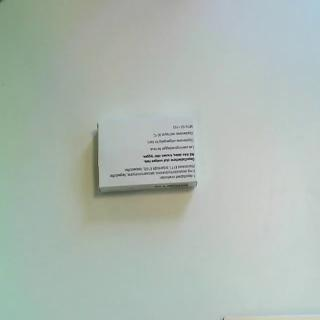oxycontin5mg: (97, 114, 200, 194)
